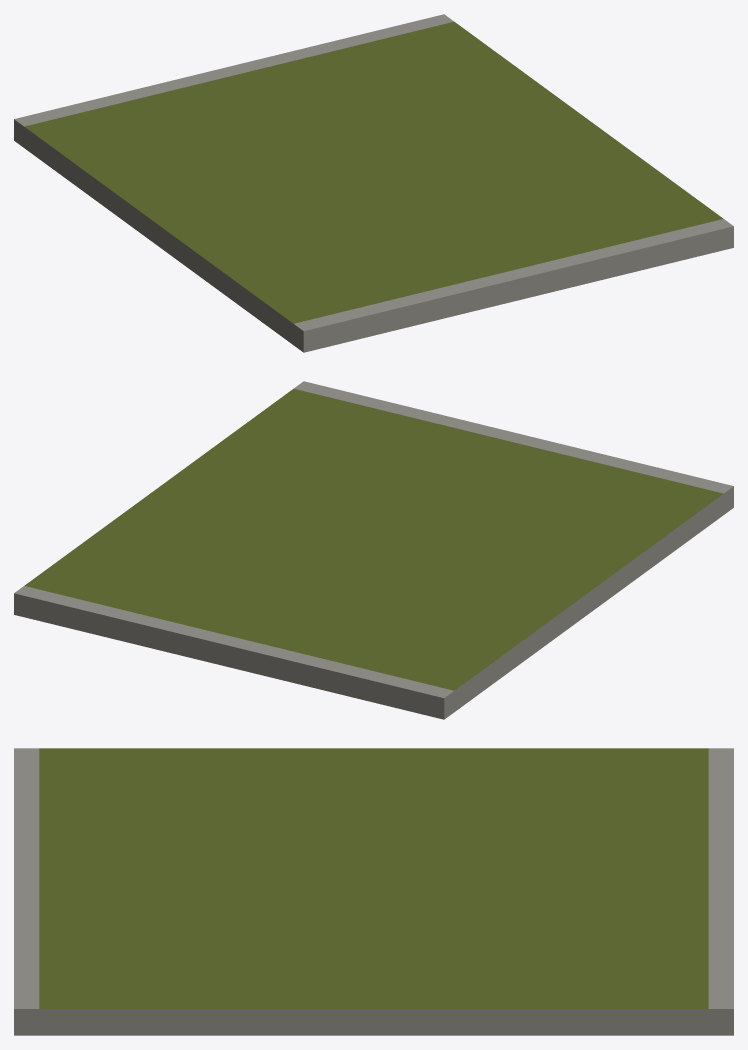
The model's file is median_straight_4p27.glb.
3 renders of one model, top to bottom at view 1: azimuth 30°, elevation 25°; view 2: azimuth 150°, elevation 25°; view 3: azimuth 270°, elevation 25°, orthographic. The views are drawn at different scales.
Parts seen in each view (by area): view 1: median_straight_4p27-col; view 2: median_straight_4p27-col; view 3: median_straight_4p27-col.
Part boxes in pixels (x1=…): median_straight_4p27-col: x1=14, y1=14, x2=733, y2=352; median_straight_4p27-col: x1=14, y1=381, x2=733, y2=719; median_straight_4p27-col: x1=14, y1=748, x2=733, y2=1035.
Size of the model in its own units: 3.66 by 0.175 by 4.27.
